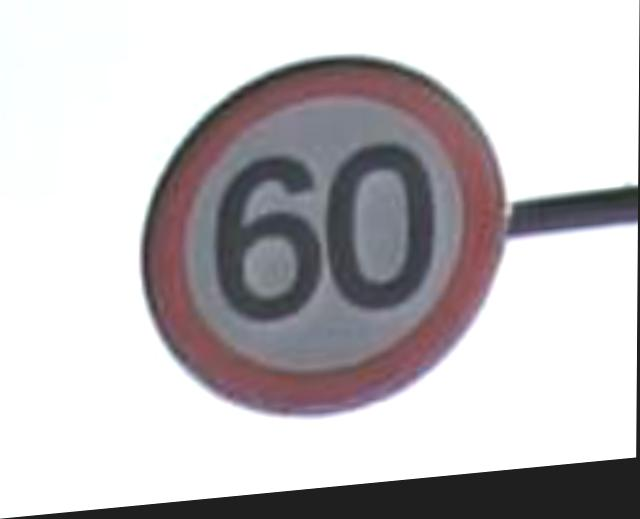limit60: (144, 34, 515, 441)
